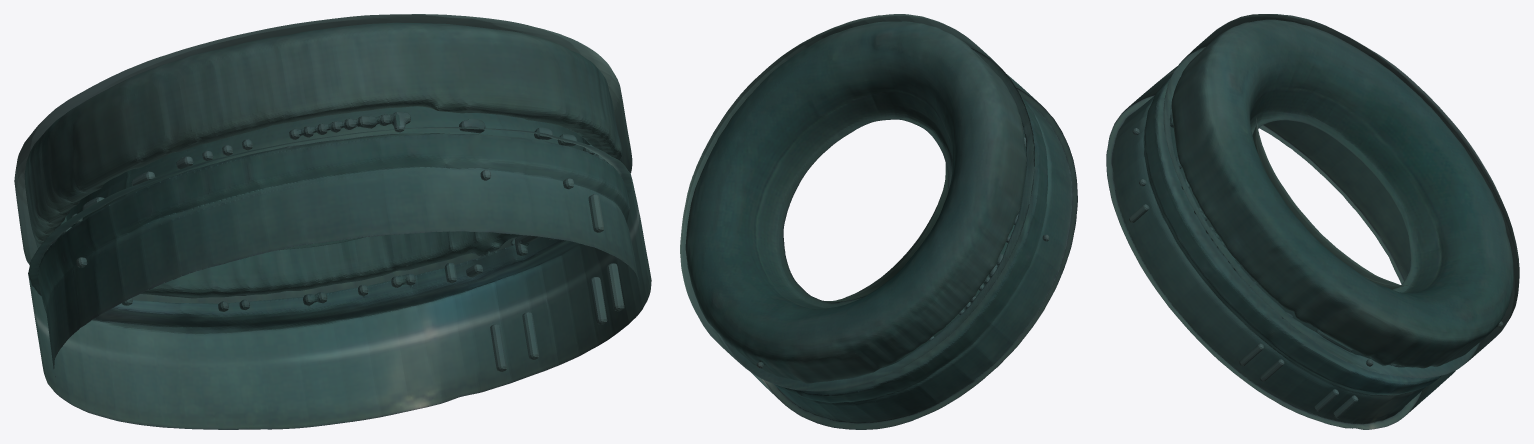
The model's file is headphones.glb.
3 renders of one model, left to right at view 1: azimuth 30°, elevation 25°; view 2: azimuth 150°, elevation 25°; view 3: azimuth 270°, elevation 25°, orthographic. The views are drawn at different scales.
Visible parts, largest first — view 1: world; view 2: world; view 3: world.
Part boxes in pixels (x1,y1,x2,y2): world: (14,14,651,429); world: (680,14,1077,429); world: (1106,14,1519,429).
Bounding box in the file's own units: 0.2 × 0.184 × 0.1956.
